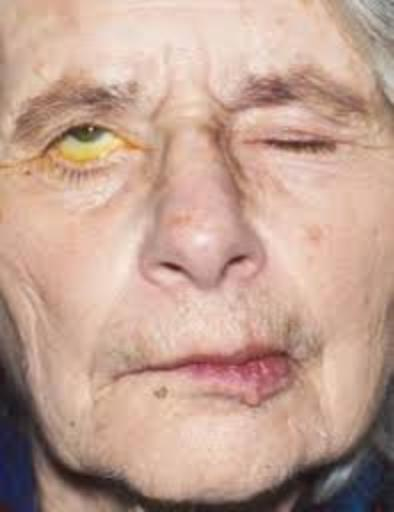left_eye: (243, 126, 345, 162)
left_lip_corner: (269, 340, 304, 373)
right_eye: (43, 120, 123, 153)
right_lip_corner: (111, 358, 173, 384)
